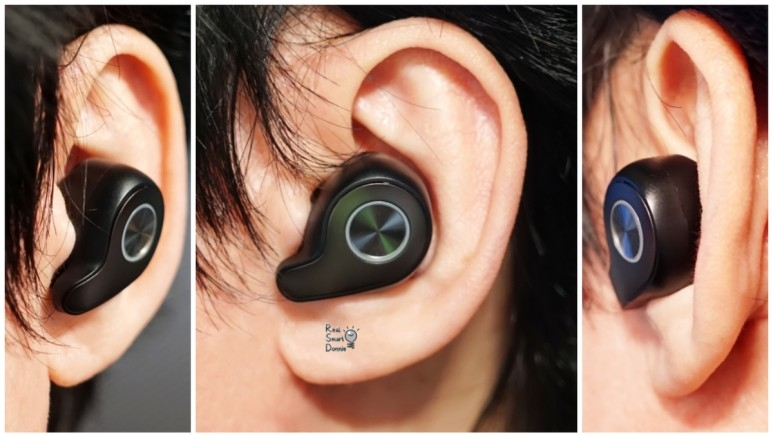earphone: (275, 17, 527, 386), (605, 10, 758, 398), (44, 24, 188, 387)
